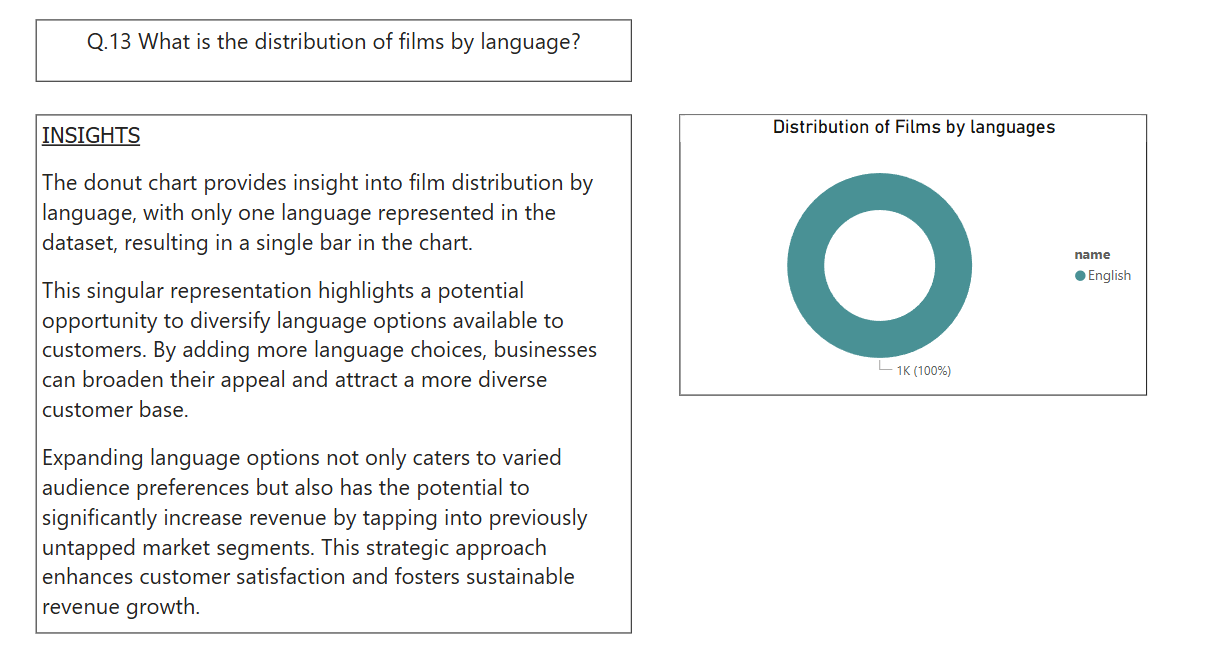

The dashboard page shown, as its layout file describes it:
{"tool":"powerbi","page":{"name":"Q13","canvas":[1280,720],"ordinal":18},"visuals":[{"type":"textbox","box":[51.9,60.3,575.5,60.3],"z":0},{"type":"textbox","box":[51.9,152,575.5,500.7],"z":1000},{"type":"donutChart","title":"Distribution of Films by languages","fields":{"Category":["language.name"],"Y":["CountNonNull(film.film_id)"]},"box":[673.2,152,451.2,271.4],"z":2000}]}

Visuals, with their boxes in screenshot pixels (x1, y1, x2, y2), scaled from the page's 1280x720 canvas onto the 1207x665 screenshot:
textbox: (49, 56, 592, 111)
textbox: (49, 140, 592, 603)
"Distribution of Films by languages" donutChart: (635, 140, 1060, 391)
